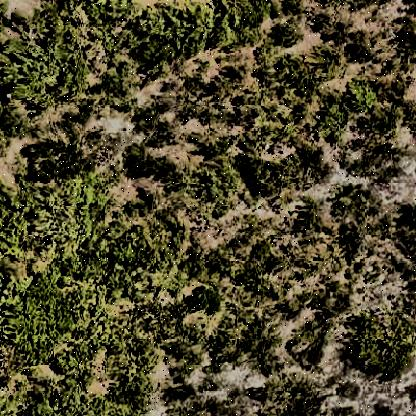tree-top: (124, 2, 274, 56), (6, 36, 95, 106), (352, 308, 412, 380), (30, 128, 96, 183), (245, 155, 295, 199)
